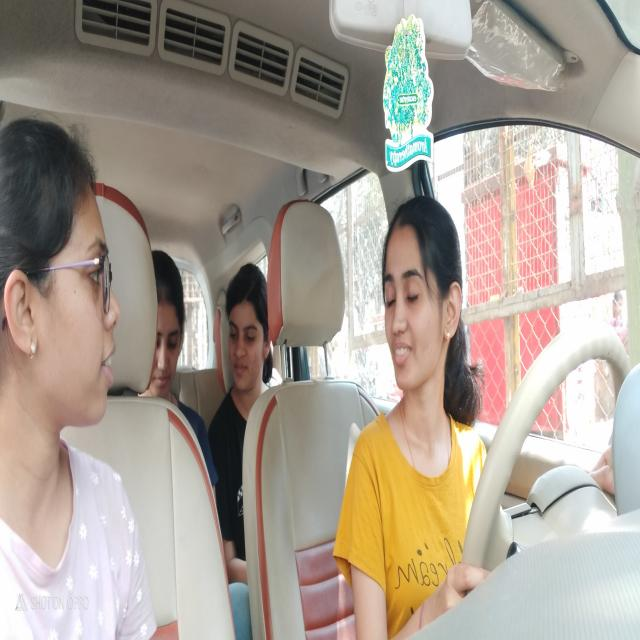LeftRight: (374, 180, 464, 420)
person: (0, 121, 122, 455), (222, 260, 270, 398), (154, 249, 188, 392)
talking: (385, 334, 414, 374), (96, 346, 118, 385)
